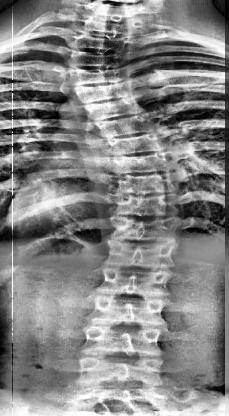Vertebrae: (78, 327, 165, 359), (91, 294, 165, 326), (81, 359, 165, 384), (102, 266, 166, 298), (106, 240, 180, 265), (112, 216, 176, 243), (109, 198, 181, 220), (106, 128, 165, 154), (95, 114, 153, 138), (104, 174, 176, 193), (85, 97, 144, 116), (110, 154, 166, 174), (66, 65, 126, 83), (76, 84, 132, 102), (75, 33, 129, 51), (72, 48, 122, 66)
